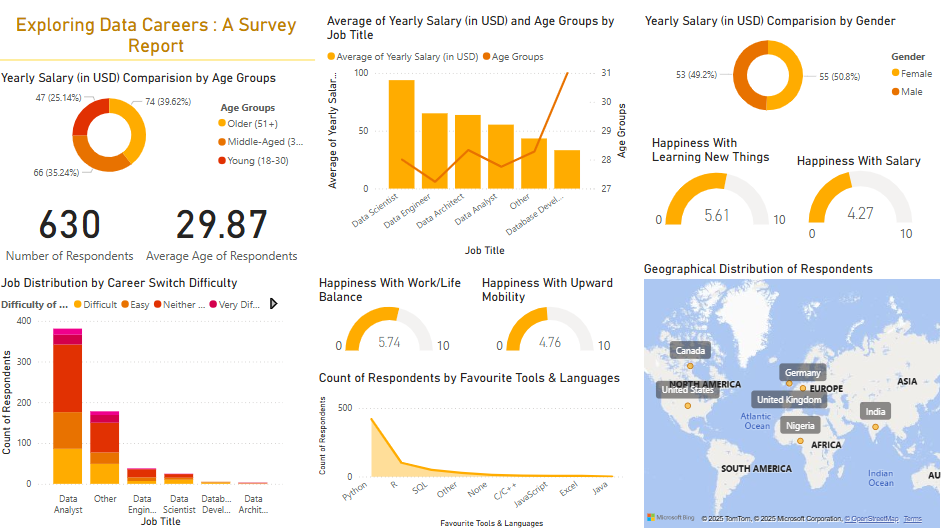

This screenshot's page, from the dashboard's own definition file:
{"tool":"powerbi","page":{"name":"Page 1","canvas":[1280,720],"ordinal":0},"visuals":[{"type":"card","fields":{"Values":["Avg(Sheet1.Q10 - Current Age)"]},"box":[195.7,253.9,215.1,107.6],"z":0},{"type":"card","fields":{"Values":["CountNonNull(Sheet1.Unique ID)"]},"box":[0,253.9,195.7,107.6],"z":1000},{"type":"textbox","title":"Exploring Data Careers : A Survey Report","box":[0,19.4,430.2,68.7],"z":2000},{"type":"gauge","title":"Happiness With Learning New Things","fields":{"Y":["Avg(Sheet1.Q6 - How Happy are you in your Current Position with the following? (Learning New Things))"],"MinValue":["Min(Sheet1.Q6 - How Happy are you in your Current Position with the following? (Learning New Things))"],"MaxValue":["Max(Sheet1.Q6 - How Happy are you in your Current Position with the following? (Learning New Things))"]},"box":[879.8,183.7,195.7,138.9],"z":3000},{"type":"gauge","title":"Happiness With Salary","fields":{"Y":["Avg(Sheet1.Q6 - How Happy are you in your Current Position with the following? (Salary))"],"MinValue":["Min(Sheet1.Q6 - How Happy are you in your Current Position with the following? (Salary))"],"MaxValue":["Max(Sheet1.Q6 - How Happy are you in your Current Position with the following? (Salary))"]},"box":[1074.9,207.8,194.1,134.9],"z":4000},{"type":"gauge","title":"Happiness With Upward Mobility","fields":{"Y":["Avg(Sheet1.Q6 - How Happy are you in your Current Position with the following? (Upward Mobility))"],"MinValue":["Min(Sheet1.Q6 - How Happy are you in your Current Position with the following? (Upward Mobility))"],"MaxValue":["Max(Sheet1.Q6 - How Happy are you in your Current Position with the following? (Upward Mobility))"]},"box":[648.6,373,202.7,105.4],"z":5000},{"type":"gauge","title":"Happiness With Work/Life Balance","fields":{"Y":["Avg(Sheet1.Q6 - How Happy are you in your Current Position with the following? (Work/Life Balance))"],"MinValue":["Min(Sheet1.Q6 - How Happy are you in your Current Position with the following? (Work/Life Balance))"],"MaxValue":["Max(Sheet1.Q6 - How Happy are you in your Current Position with the following? (Work/Life Balance))"]},"box":[429.7,373,209.5,105.4],"z":6000},{"type":"lineStackedColumnComboChart","fields":{"Category":["Sheet1.Q1 - Which Title Best Fits your Current Role?"],"Y":["Avg(Sheet1.Q3 - Current Yearly Salary (in USD))"],"Y2":["Avg(Sheet1.Q10 - Current Age (bins))"]},"box":[440.7,19.4,415.3,334.6],"z":7000},{"type":"areaChart","fields":{"Category":["Sheet1.Q5 - Favorite Programming Language"],"Y":["CountNonNull(Sheet1.Unique ID)"]},"box":[430.2,501.9,422.7,218.1],"z":8000},{"type":"columnChart","title":"Job Distribution by Career Switch Difficulty","fields":{"Category":["Sheet1.Q1 - Which Title Best Fits your Current Role?","Sheet1.Q4 - What Industry do you work in?"],"Y":["CountNonNull(Sheet1.Unique ID)"],"Series":["Sheet1.Q7 - How difficult was it for you to break into Data?"]},"box":[0,373.4,391.4,346.6],"z":9000},{"type":"donutChart","title":"Yearly Salary (in USD) Comparision by Gender","fields":{"Category":["Sheet1.Q9 - Male/Female?"],"Y":["Avg(Sheet1.Q3 - Current Yearly Salary (in USD))"]},"box":[870.9,19.4,409.3,149.4],"z":10000},{"type":"donutChart","title":"Yearly Salary (in USD) Comparision by Age Groups","fields":{"Category":["Sheet1.Q10 - Current Age (groups)"],"Y":["Avg(Sheet1.Q3 - Current Yearly Salary (in USD))"]},"box":[0,95.6,430.2,156.8],"z":11000},{"type":"map","title":"Geographical Distribution of Respondents","fields":{"Category":["Sheet1.Q11 - Which Country do you live in?"]},"box":[869.4,354,410.8,366],"z":12000}]}

Visuals, with their boxes in screenshot pixels (x1, y1, x2, y2), scaled from the page's 1280x720 canvas onto the 944x529 screenshot:
card - Avg(Sheet1.Q10 - Current Age): 144,187,303,266
card - CountNonNull(Sheet1.Unique ID): 0,187,144,266
"Exploring Data Careers : A Survey Report" textbox: 0,14,317,65
"Happiness With Learning New Things" gauge: 649,135,793,237
"Happiness With Salary" gauge: 793,153,936,252
"Happiness With Upward Mobility" gauge: 478,274,628,351
"Happiness With Work/Life Balance" gauge: 317,274,471,351
lineStackedColumnComboChart - Sheet1.Q1 - Which Title Best Fits your Current Role? x Avg(Sheet1.Q3 - Current Yearly Salary (in USD)): 325,14,631,260
areaChart - Sheet1.Q5 - Favorite Programming Language x CountNonNull(Sheet1.Unique ID): 317,369,629,528
"Job Distribution by Career Switch Difficulty" columnChart: 0,274,289,528
"Yearly Salary (in USD) Comparision by Gender" donutChart: 642,14,943,124
"Yearly Salary (in USD) Comparision by Age Groups" donutChart: 0,70,317,185
"Geographical Distribution of Respondents" map: 641,260,943,528
